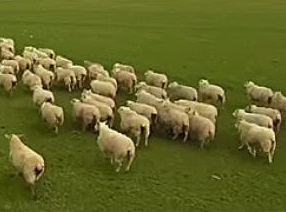sheep: (233, 117, 280, 169), (95, 123, 135, 172), (1, 133, 39, 180), (72, 83, 112, 126), (63, 97, 103, 134), (189, 111, 225, 149), (154, 102, 193, 136), (233, 107, 278, 135), (117, 106, 154, 136), (166, 78, 203, 104), (241, 98, 279, 123), (246, 81, 283, 106), (37, 102, 65, 134), (120, 98, 157, 122), (137, 78, 167, 106), (111, 59, 137, 89), (86, 74, 116, 96), (199, 78, 225, 100), (54, 65, 78, 88), (16, 67, 42, 87), (42, 48, 72, 65), (27, 86, 53, 105), (23, 51, 47, 69), (142, 68, 167, 83), (1, 58, 22, 70)
